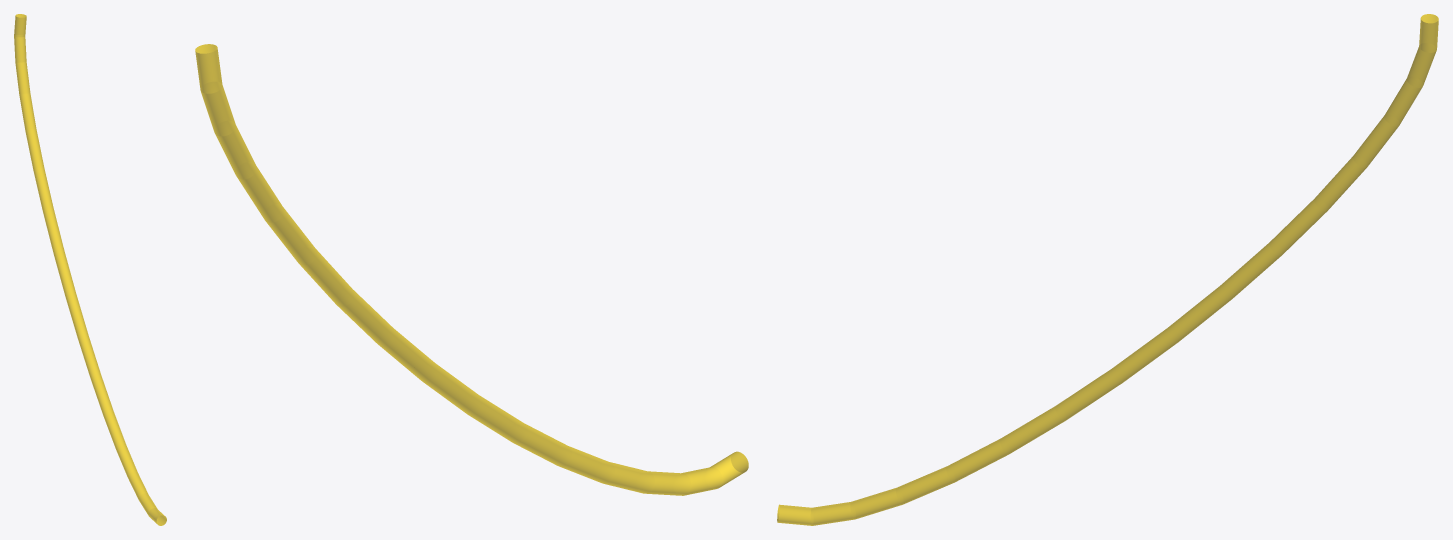
Rendered from Event_100608114_track_52.fbx.
3 views of the same model, side by side, from view 1: azimuth 30°, elevation 25°; view 2: azimuth 150°, elevation 25°; view 3: azimuth 270°, elevation 25° (orthographic). The views are drawn at different scales.
Parts seen in each view (by area): view 1: Model; view 2: Model; view 3: Model.
Boxes of the visible parts, left/top/right/bottom form: Model: left=14, top=14, right=166, bottom=525; Model: left=195, top=44, right=748, bottom=495; Model: left=777, top=14, right=1438, bottom=525.
Size of the model in its own units: 0.2964 by 1.35 by 1.46.
